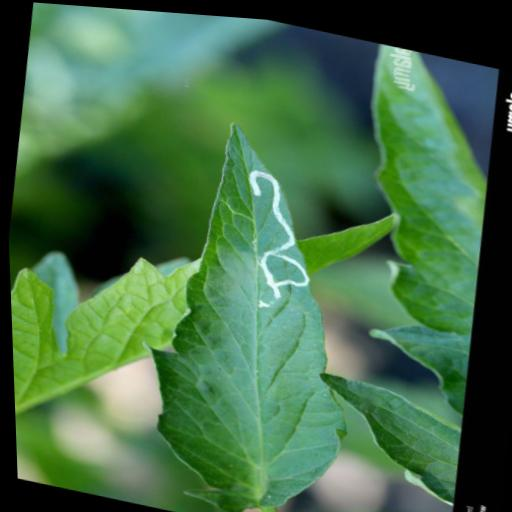Leaf_Miner: (110, 102, 387, 512)
